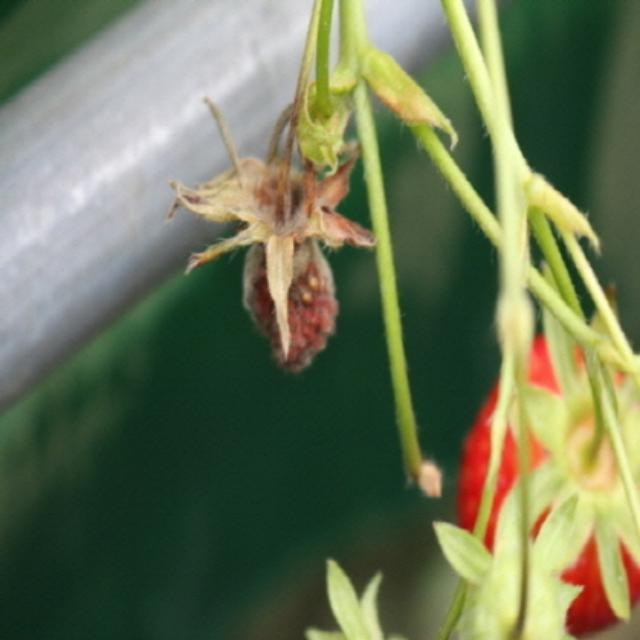Gray Mold: (165, 97, 379, 376)
